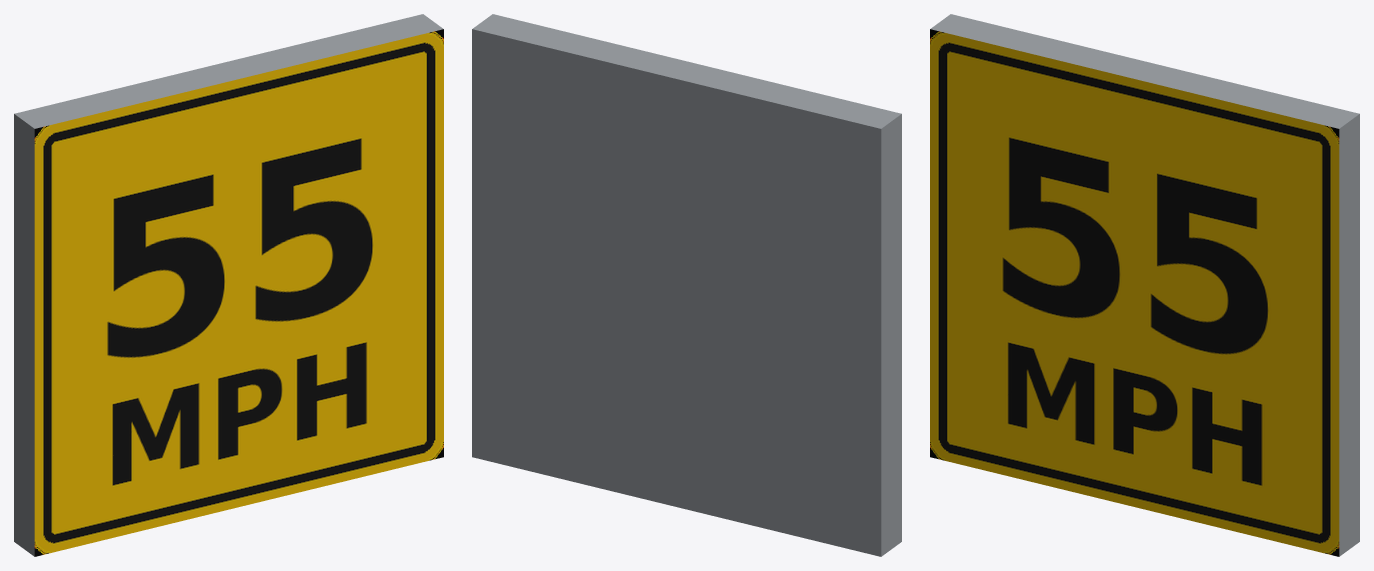
Rendered from us_advisory55.dae.
The picture shows the model from 3 angles, left to right: view 1: azimuth 30°, elevation 25°; view 2: azimuth 150°, elevation 25°; view 3: azimuth 330°, elevation 25°; orthographic projection.
Parts seen in each view (by area): view 1: sign4, Colmesh-1; view 2: Colmesh-1; view 3: sign4, Colmesh-1.
Part boxes in pixels (left/top/right/bottom): sign4: left=34, top=29, right=443, bottom=556; Colmesh-1: left=14, top=14, right=443, bottom=556; Colmesh-1: left=472, top=14, right=901, bottom=556; sign4: left=930, top=29, right=1339, bottom=556; Colmesh-1: left=930, top=14, right=1359, bottom=556.
Size of the model in its own units: 0.4572 by 0.04 by 0.4572.
2 materials, 1 textured.
